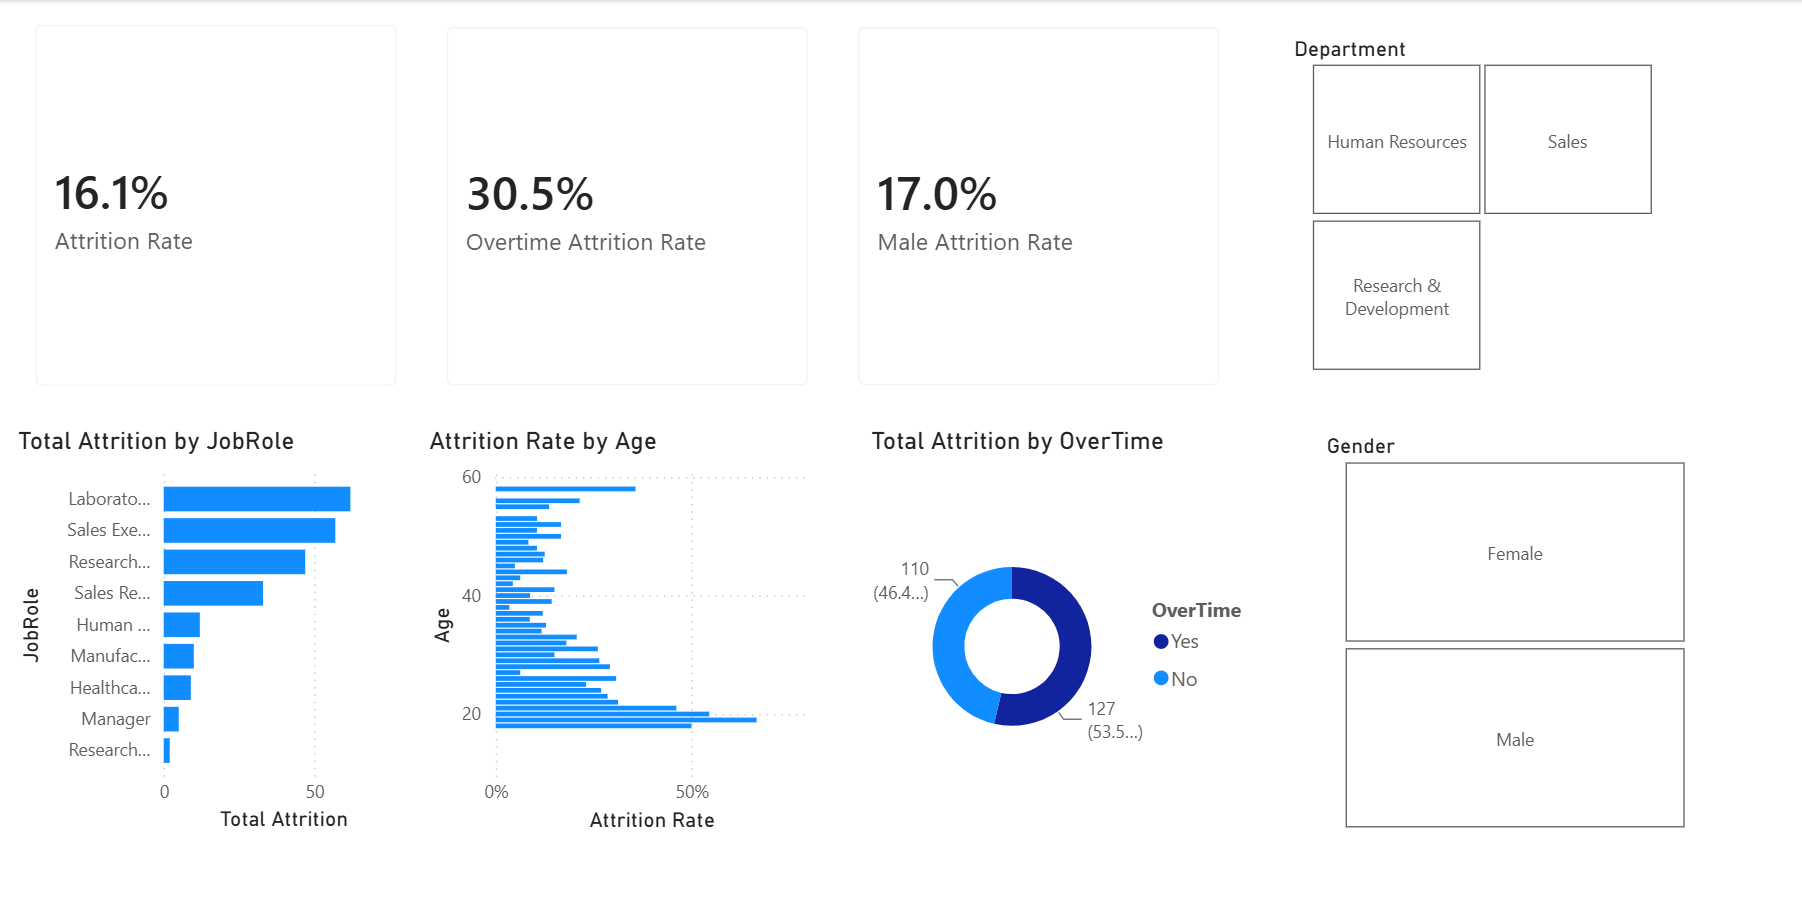

Layout of this report page (visuals, bound fields, positions):
{"tool":"powerbi","page":{"name":"Attrition Analysis","canvas":[1280,720],"ordinal":1},"visuals":[{"type":"cardVisual","fields":{"Data":["HR_Analytics.Attrition Rate"]},"box":[10,0,280,280],"z":0},{"type":"cardVisual","fields":{"Data":["HR_Analytics.Overtime Attrition Rate"]},"box":[290.6,1.3,280.2,278.9],"z":1000},{"type":"cardVisual","fields":{"Data":["HR_Analytics.Male Attrition Rate"]},"box":[570.8,1.3,280.2,278.9],"z":2000},{"type":"clusteredBarChart","fields":{"Category":["HR_Analytics.JobRole"],"Y":["HR_Analytics.Total Attrition"]},"box":[10,290,280,280],"z":3000},{"type":"clusteredBarChart","fields":{"Category":["HR_Analytics.Age"],"Y":["HR_Analytics.Attrition Rate"]},"box":[290.6,290.6,280.2,280.2],"z":4000},{"type":"donutChart","fields":{"Category":["HR_Analytics.OverTime"],"Y":["HR_Analytics.Total Attrition"]},"box":[591.5,290.6,280.2,280.2],"z":5000},{"type":"slicer","fields":{"Values":["HR_Analytics.Department"]},"box":[871.7,19.5,280.2,240],"z":5001},{"type":"slicer","fields":{"Values":["HR_Analytics.Gender"]},"box":[893.8,290.6,280.2,280.2],"z":5002}]}

Visuals, with their boxes on the page's 1280x720 design canvas (x1, y1, x2, y2). These are canvas units, not pixel positions in the 1802x901 screenshot, which may show the page scaled, cropped or inside an application window:
cardVisual - HR_Analytics.Attrition Rate: [10, 0, 290, 280]
cardVisual - HR_Analytics.Overtime Attrition Rate: [291, 1, 571, 280]
cardVisual - HR_Analytics.Male Attrition Rate: [571, 1, 851, 280]
clusteredBarChart - HR_Analytics.JobRole x HR_Analytics.Total Attrition: [10, 290, 290, 570]
clusteredBarChart - HR_Analytics.Age x HR_Analytics.Attrition Rate: [291, 291, 571, 571]
donutChart - HR_Analytics.OverTime x HR_Analytics.Total Attrition: [592, 291, 872, 571]
slicer - HR_Analytics.Department: [872, 20, 1152, 260]
slicer - HR_Analytics.Gender: [894, 291, 1174, 571]
